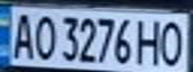2: (78, 12, 96, 63)
3: (57, 12, 81, 63)
6: (112, 15, 139, 65)
7: (93, 13, 118, 64)
A: (6, 9, 36, 61)
H: (133, 16, 166, 66)
O: (157, 17, 187, 68), (30, 11, 57, 61)
